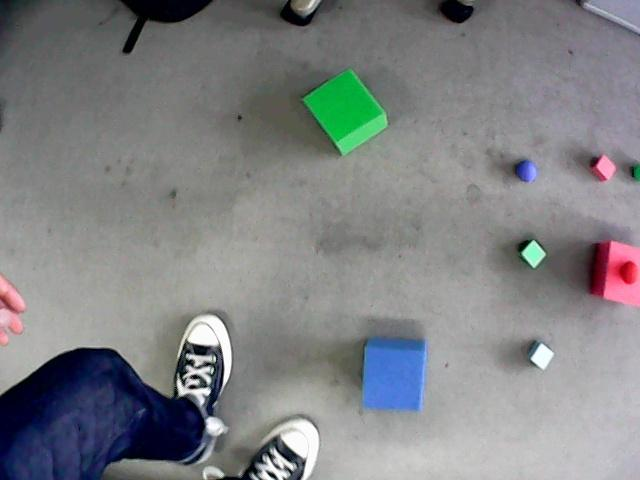blue_block: (363, 338, 426, 410), (527, 340, 553, 369)
red_block: (591, 241, 639, 305), (591, 155, 615, 181)
